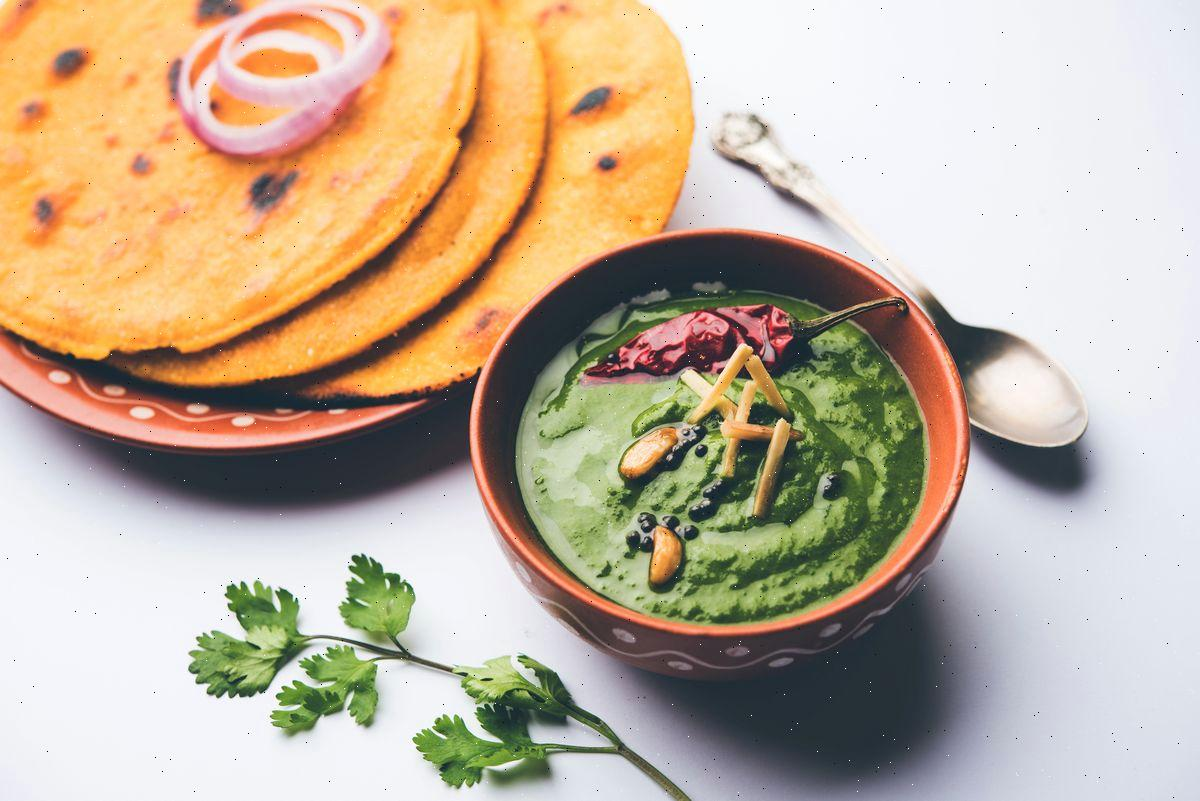saag: (514, 299, 936, 624)
